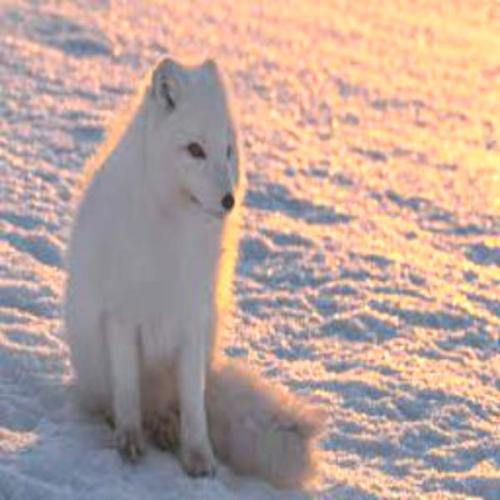arctic_fox-endangered: (73, 60, 322, 482)
